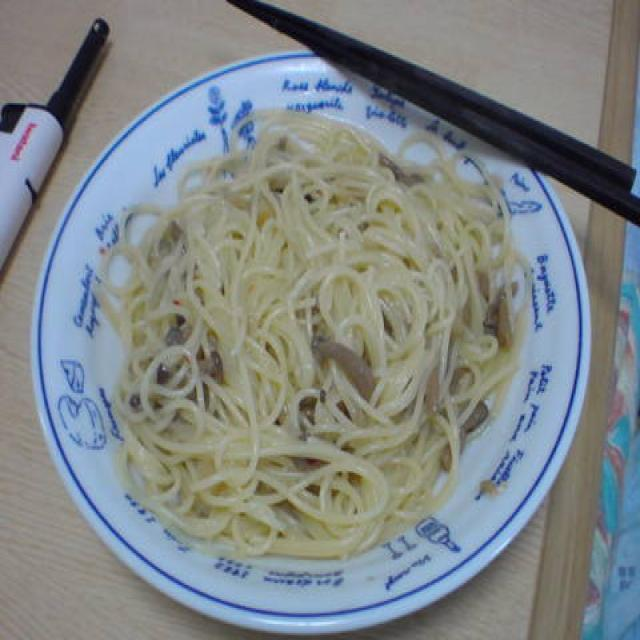Pasta: (127, 109, 514, 546)
